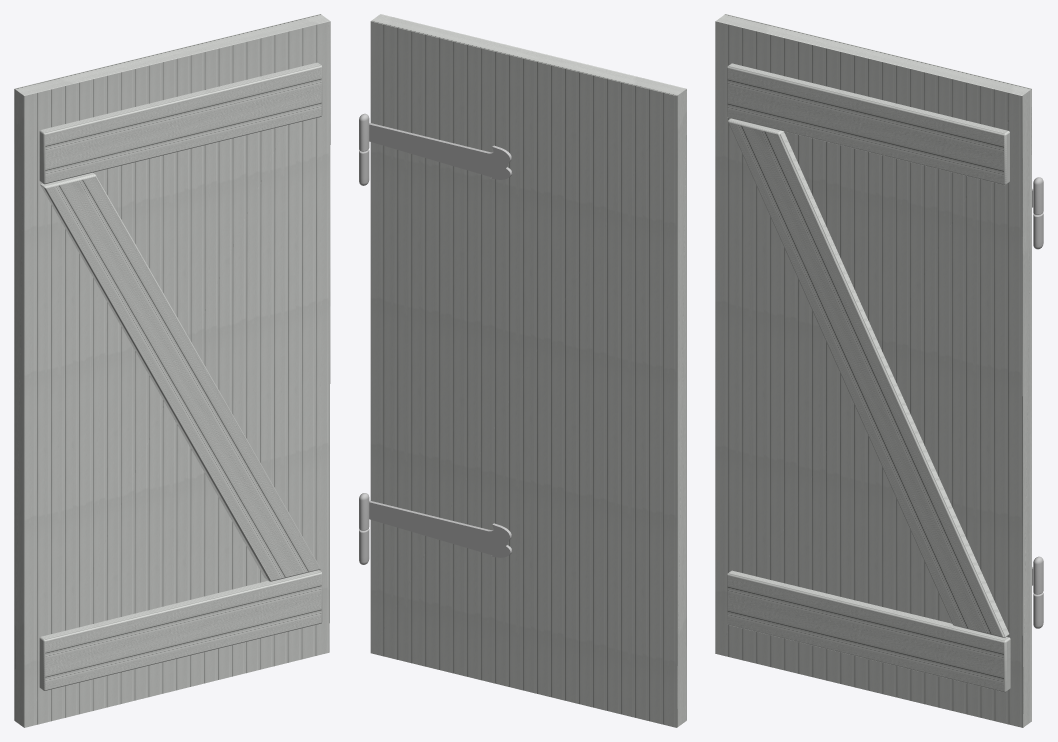
File: french_shutter_left.fbx
3 views of the same model, side by side, from view 1: azimuth 30°, elevation 25°; view 2: azimuth 150°, elevation 25°; view 3: azimuth 330°, elevation 25° (orthographic).
Visible parts, largest first — view 1: Left_Component.002; view 2: Left_Component.002; view 3: Left_Component.002.
Boxes of the visible parts, x1,y1,x2,y2 form: Left_Component.002: (14, 14, 330, 727); Left_Component.002: (359, 14, 686, 727); Left_Component.002: (715, 14, 1043, 727).
Size of the model in its own units: 0.0743 by 0.6291 by 1.21.
